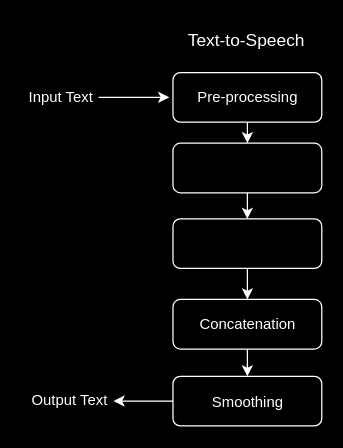
Image size: 343x448. Some labels were removed from this diagram. The centre of each missing label's shape, as x and y in pixels:
Segmentation: the point at 247,243
Unicode Conversion: the point at 247,167
